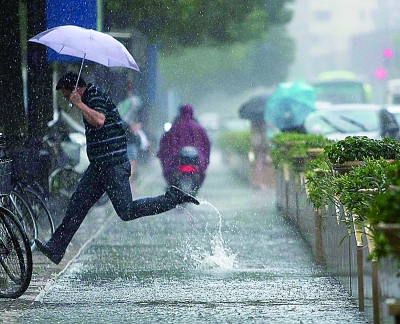bicycle: (1, 132, 56, 248), (1, 190, 37, 300)
bus: (311, 69, 373, 105)
car: (325, 100, 399, 153)
motorbike: (159, 122, 212, 199)
person: (36, 70, 200, 268), (173, 105, 197, 132)
umbrella: (28, 24, 141, 111), (262, 80, 315, 129), (239, 92, 271, 123)
